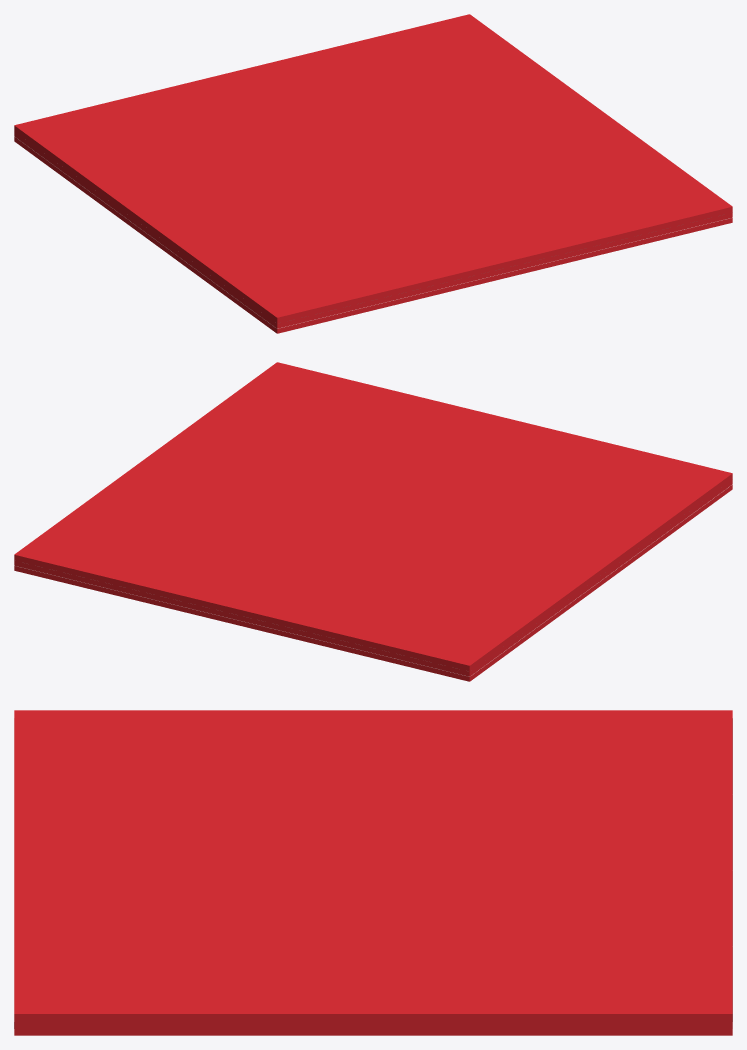
Rendered from Closed.fbx.
3 views of the same model, one above another, from view 1: azimuth 30°, elevation 25°; view 2: azimuth 150°, elevation 25°; view 3: azimuth 270°, elevation 25° (orthographic). The views are drawn at different scales.
Visible parts, largest first — view 1: Cube.004; view 2: Cube.004; view 3: Cube.004, Plane.004.
Boxes of the visible parts, x1,y1,x2,y2 form: Cube.004: (14,14,732,333); Cube.004: (14,362,732,681); Cube.004: (14,710,732,1035); Plane.004: (14,718,732,1028).
Size of the model in its own units: 1.01 by 0.0339 by 1.01.
